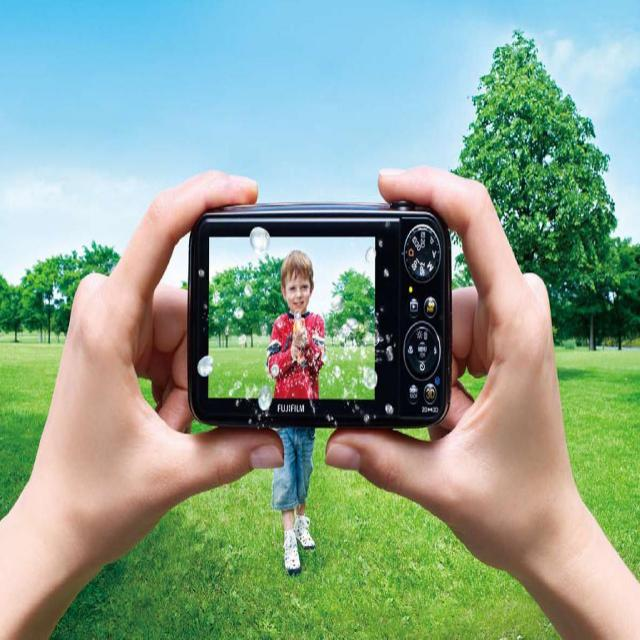nomask: (285, 264, 310, 314)
